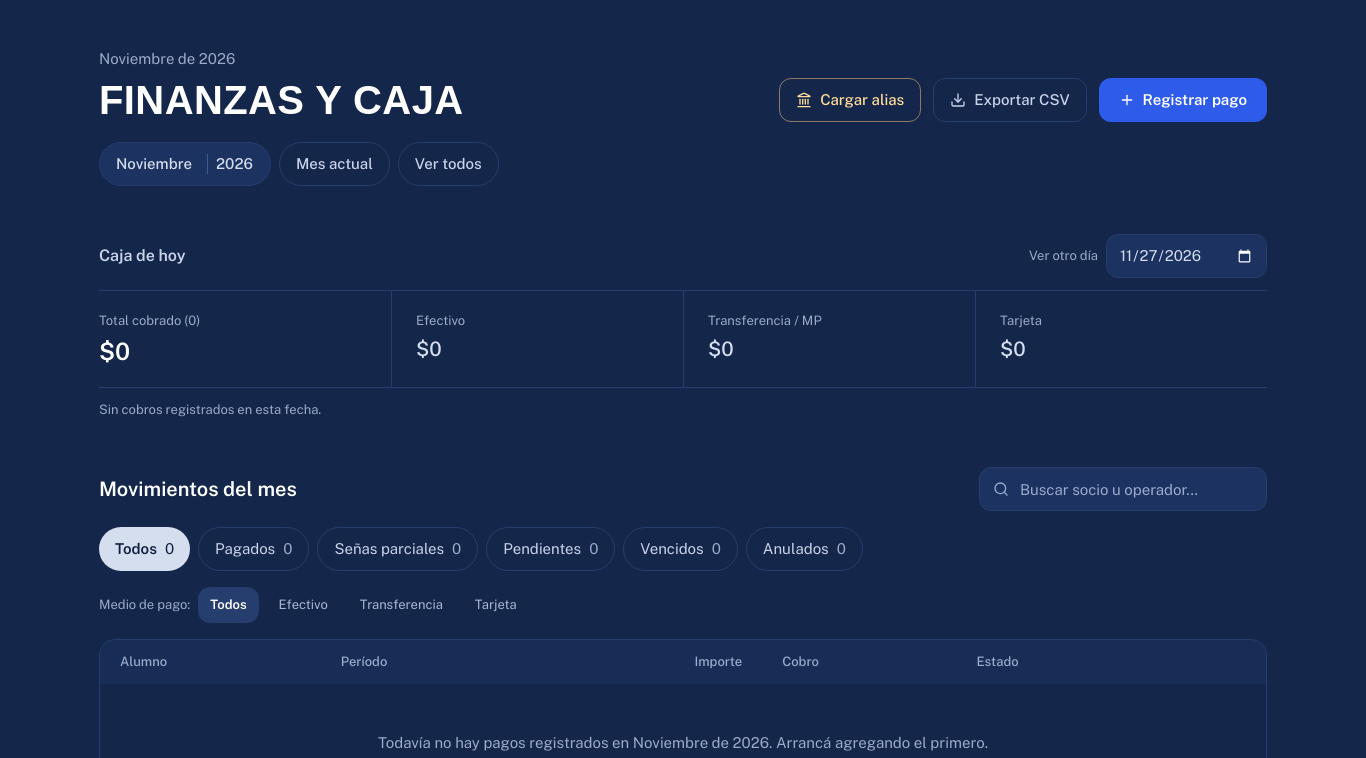
Test: Finanzas del administrador › al activar 'Ver todos' calcula el recuento de caja acumulado de todos los meses
Expected: the heading "Caja de hoy" is shown, [99, 244, 186, 268]
Expected: the date field named "Fecha de arqueo de caja" is shown, [1106, 234, 1267, 278]
Click the button "Ver todos" at [448, 164], box [398, 142, 499, 186]
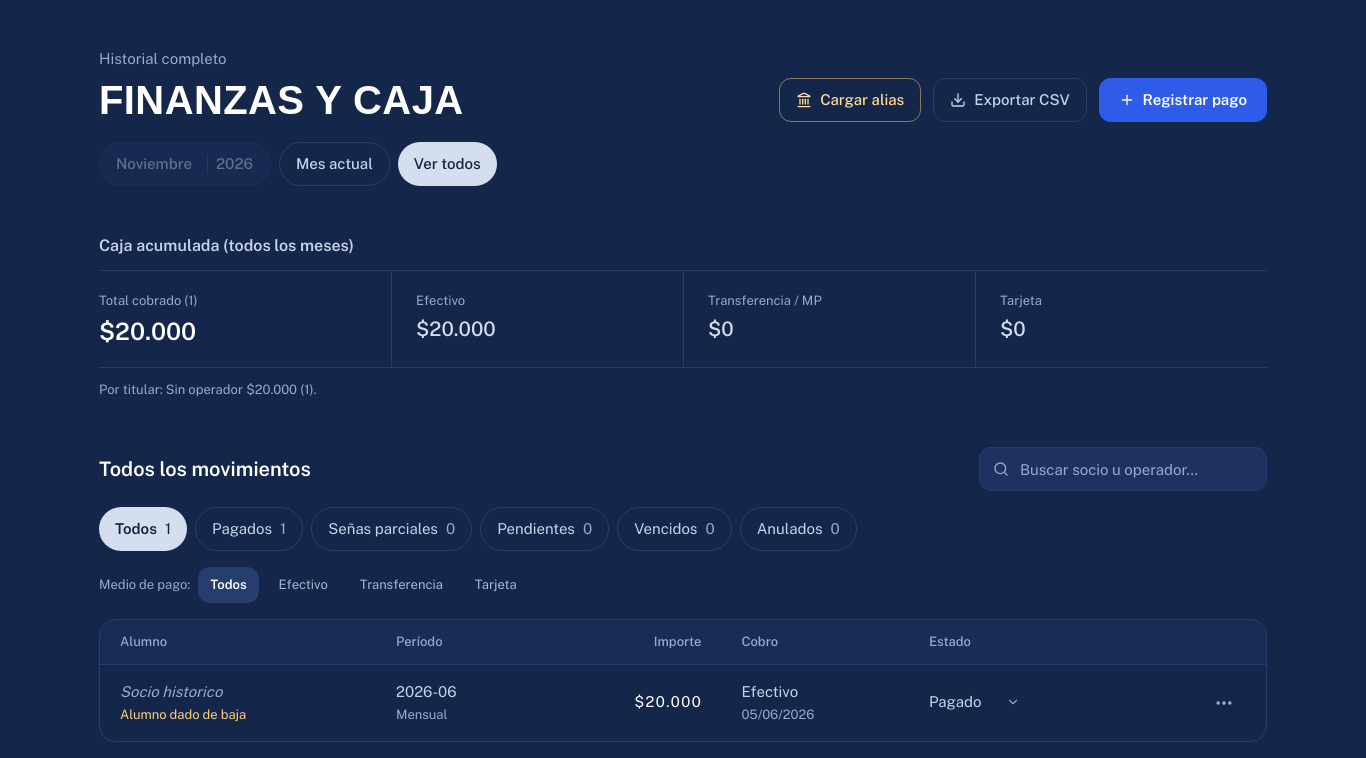
Result: the text "Total cobrado (1)" is shown at [99, 293, 198, 308]
